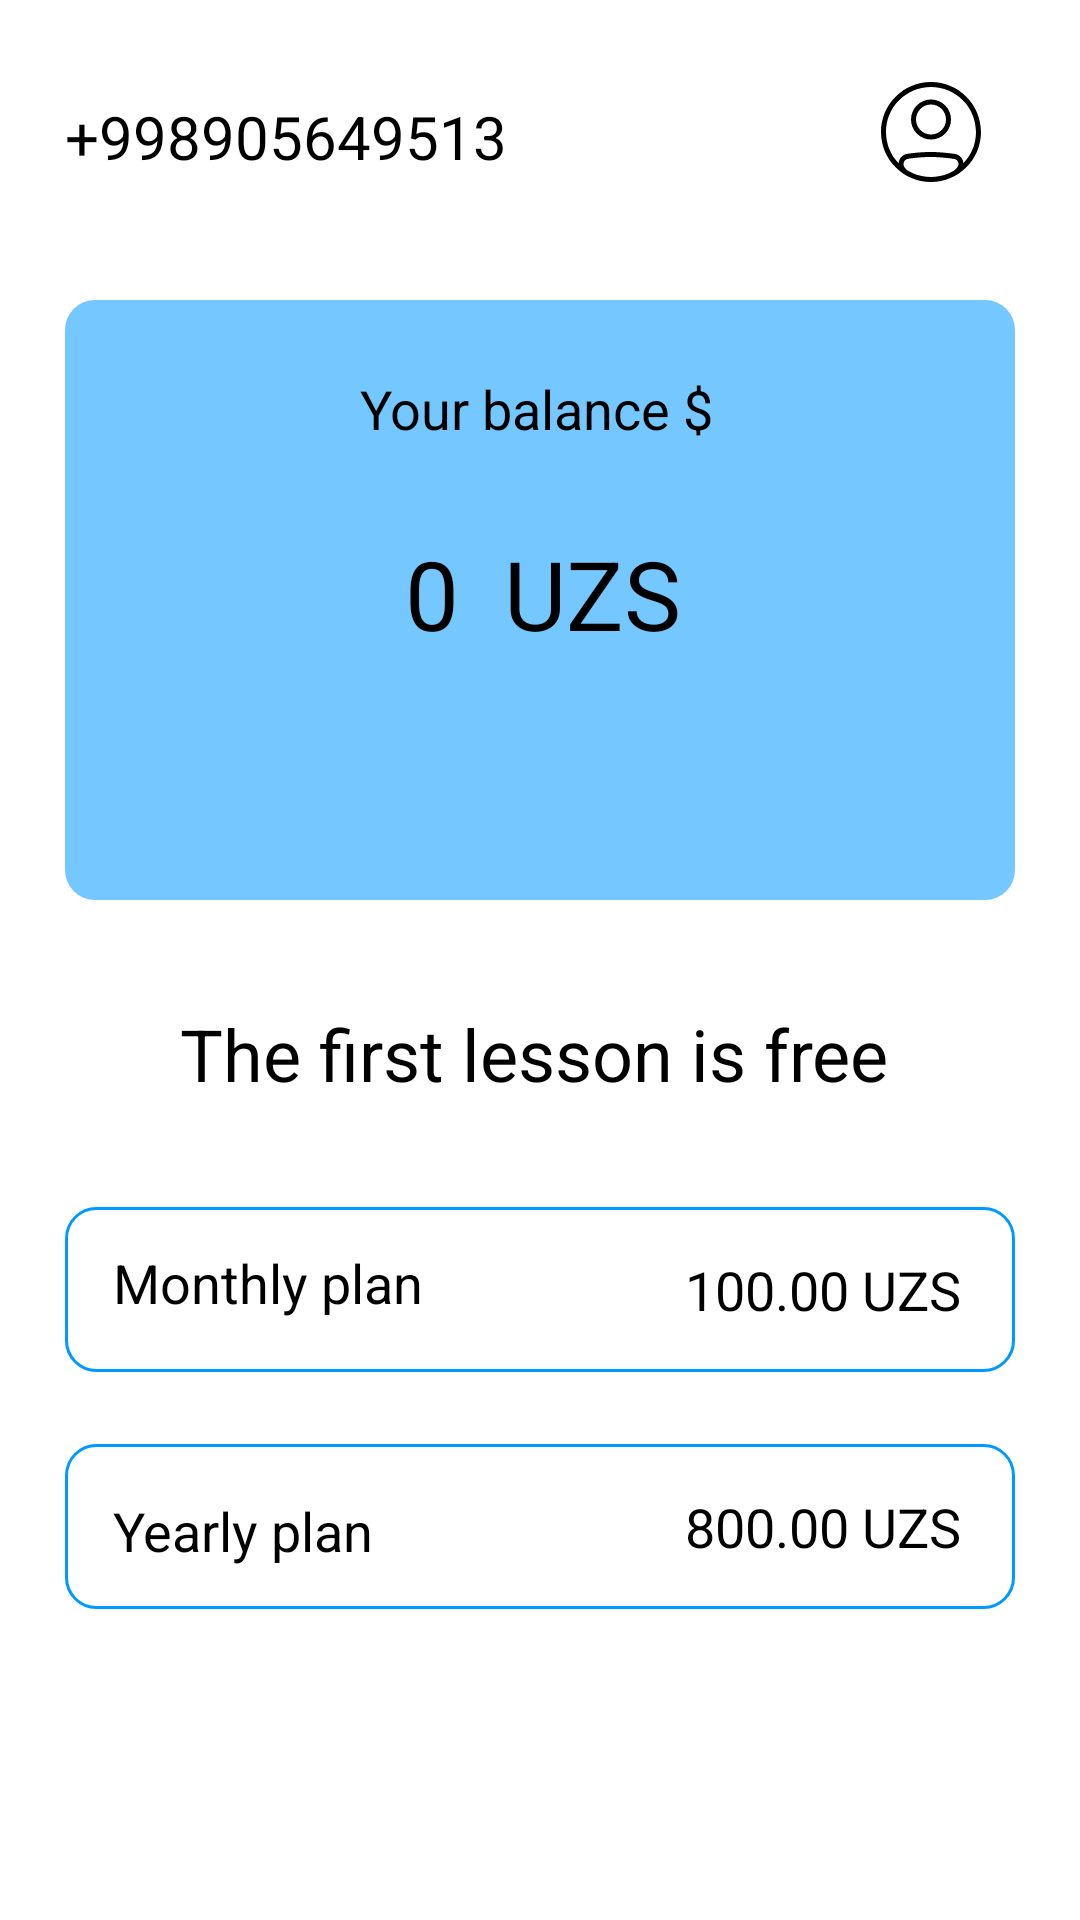

Screen size 1080w x 1920h. Icon name, then its box in pixels as (x1, y1, x2, y2):
user: (881, 82, 981, 182)
